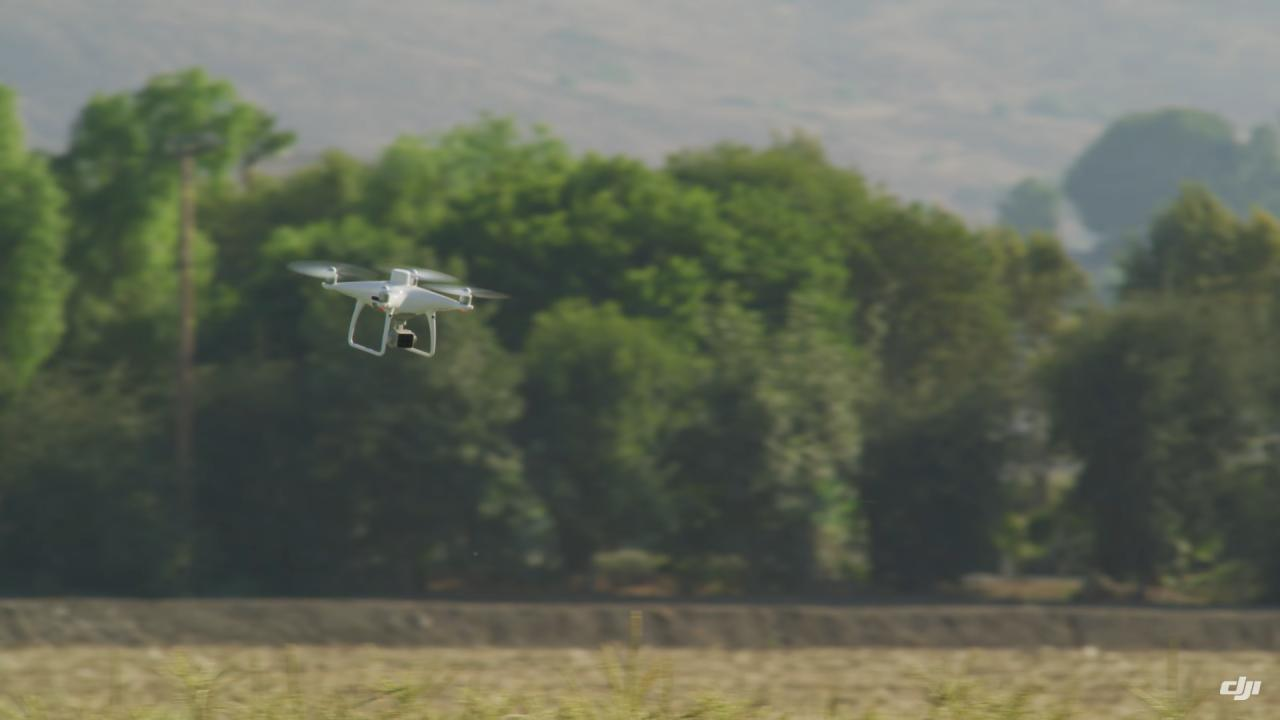Drone: (276, 239, 519, 372)
